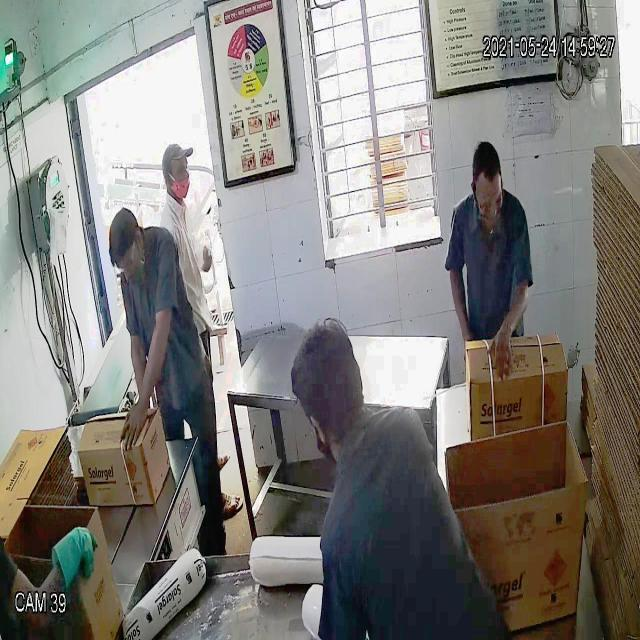glasses: (473, 188, 507, 222)
